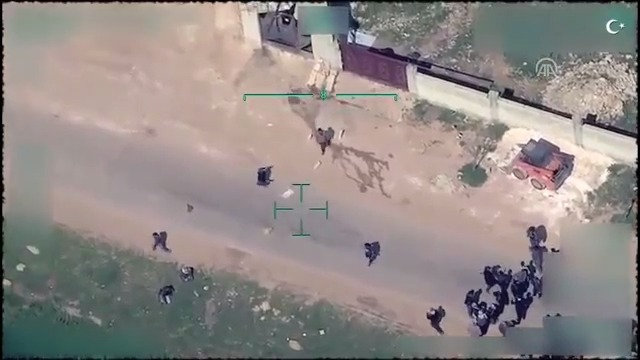arac: (503, 132, 578, 196)
insan: (145, 227, 171, 255), (421, 304, 444, 332), (312, 125, 328, 156), (255, 161, 270, 186)
